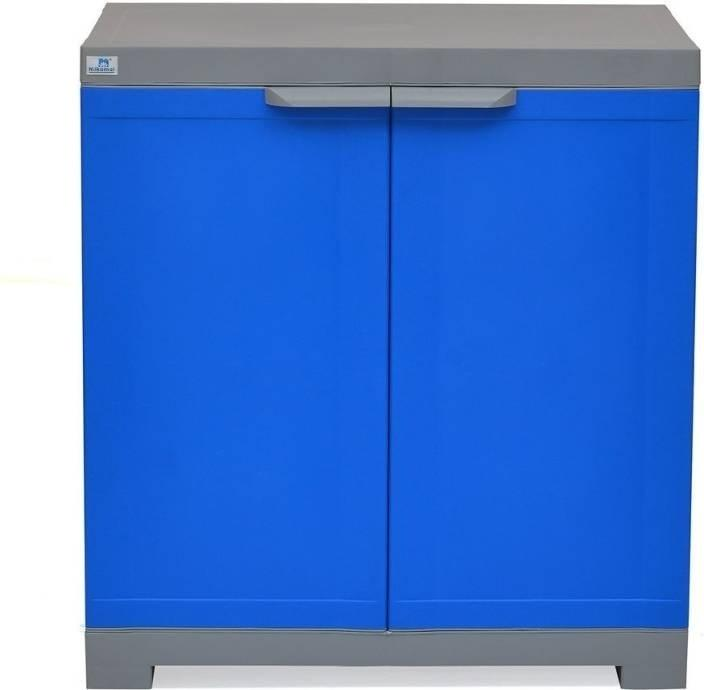cabinet_door: (78, 87, 388, 634), (391, 87, 696, 628)
handle: (264, 83, 390, 118), (394, 83, 519, 118)
